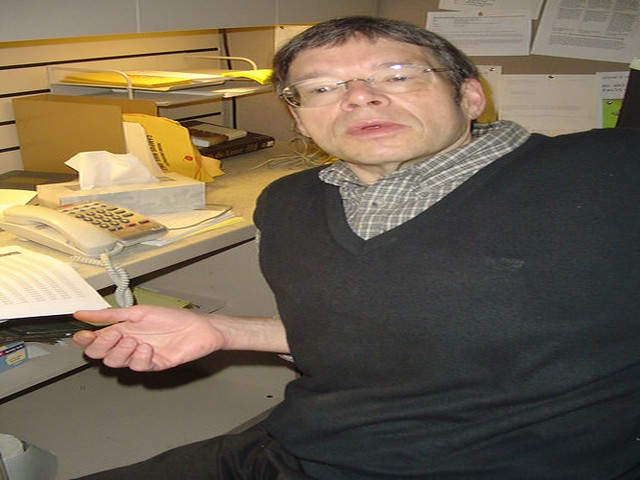Person: (110, 13, 638, 464)
